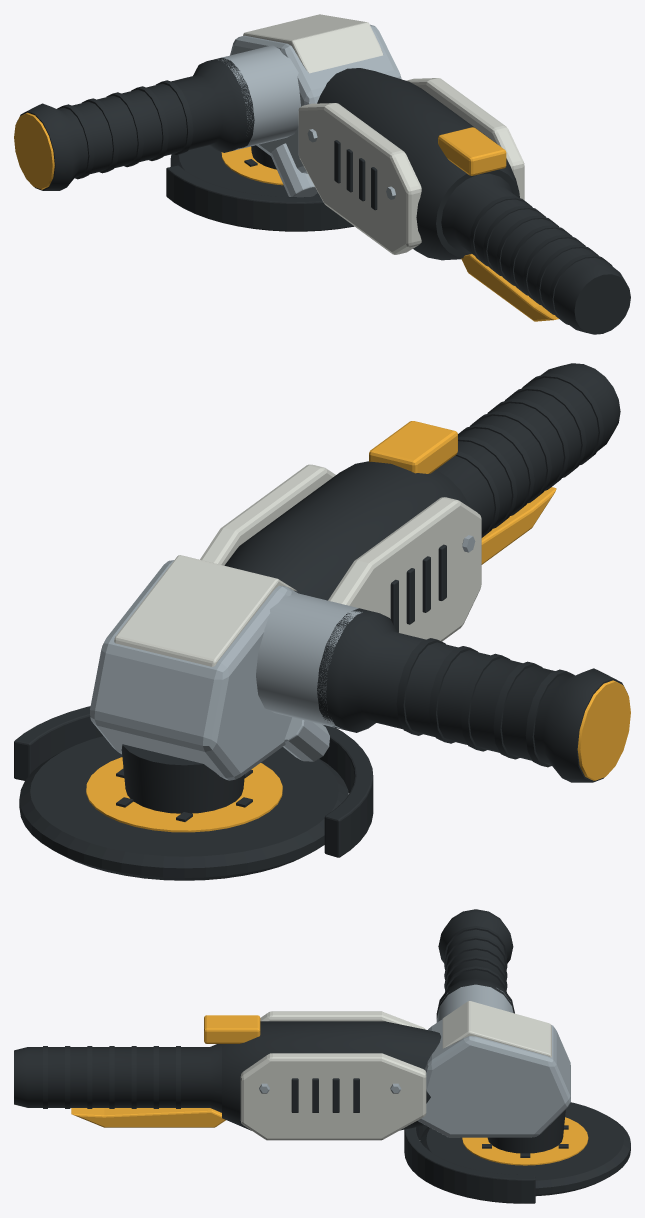
File: VF_Grinder.glb
The picture shows the model from 3 angles, top to bottom: view 1: azimuth 30°, elevation 25°; view 2: azimuth 150°, elevation 25°; view 3: azimuth 270°, elevation 25°; orthographic projection. The views are drawn at different scales.
Parts seen in each view (by area): view 1: VF_Grinder_Body, VF_Grinder_Disc, VF_Grinder_Trigger; view 2: VF_Grinder_Body, VF_Grinder_Disc, VF_Grinder_Trigger; view 3: VF_Grinder_Body, VF_Grinder_Disc, VF_Grinder_Trigger.
Boxes of the visible parts, x1,y1,x2,y2 form: VF_Grinder_Body: (14, 14, 630, 334); VF_Grinder_Disc: (170, 145, 319, 196); VF_Grinder_Trigger: (461, 254, 558, 321); VF_Grinder_Body: (14, 363, 630, 857); VF_Grinder_Disc: (19, 736, 348, 880); VF_Grinder_Trigger: (481, 487, 556, 564); VF_Grinder_Body: (14, 909, 570, 1203); VF_Grinder_Disc: (420, 1102, 630, 1196); VF_Grinder_Trigger: (71, 1108, 225, 1127).
Size of the model in its own units: 0.237 by 0.0928 by 0.362.
